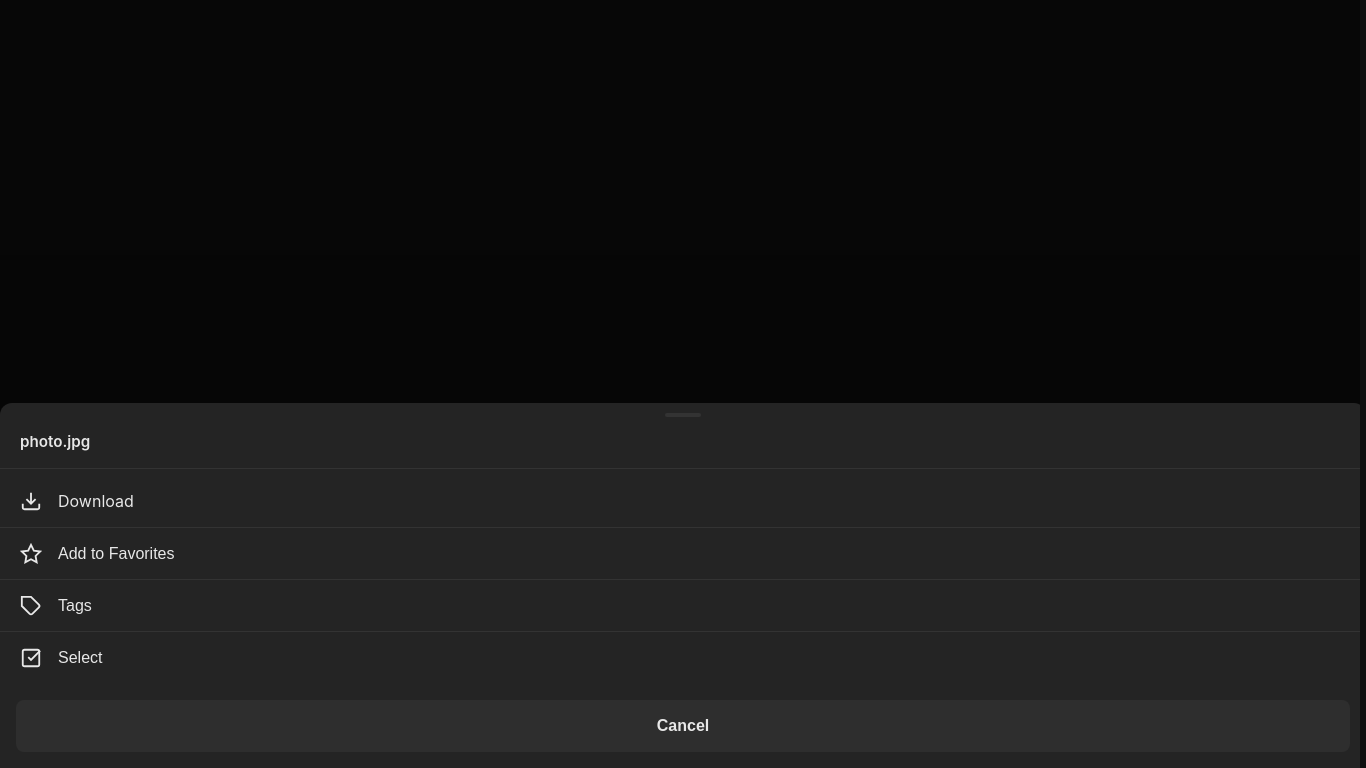
Scenario: GalleryContextMenu › opens the Tags sub-panel when Tags button is clicked
Click the button "Tags". click: (75, 605)
box: [0,580,1365,632]
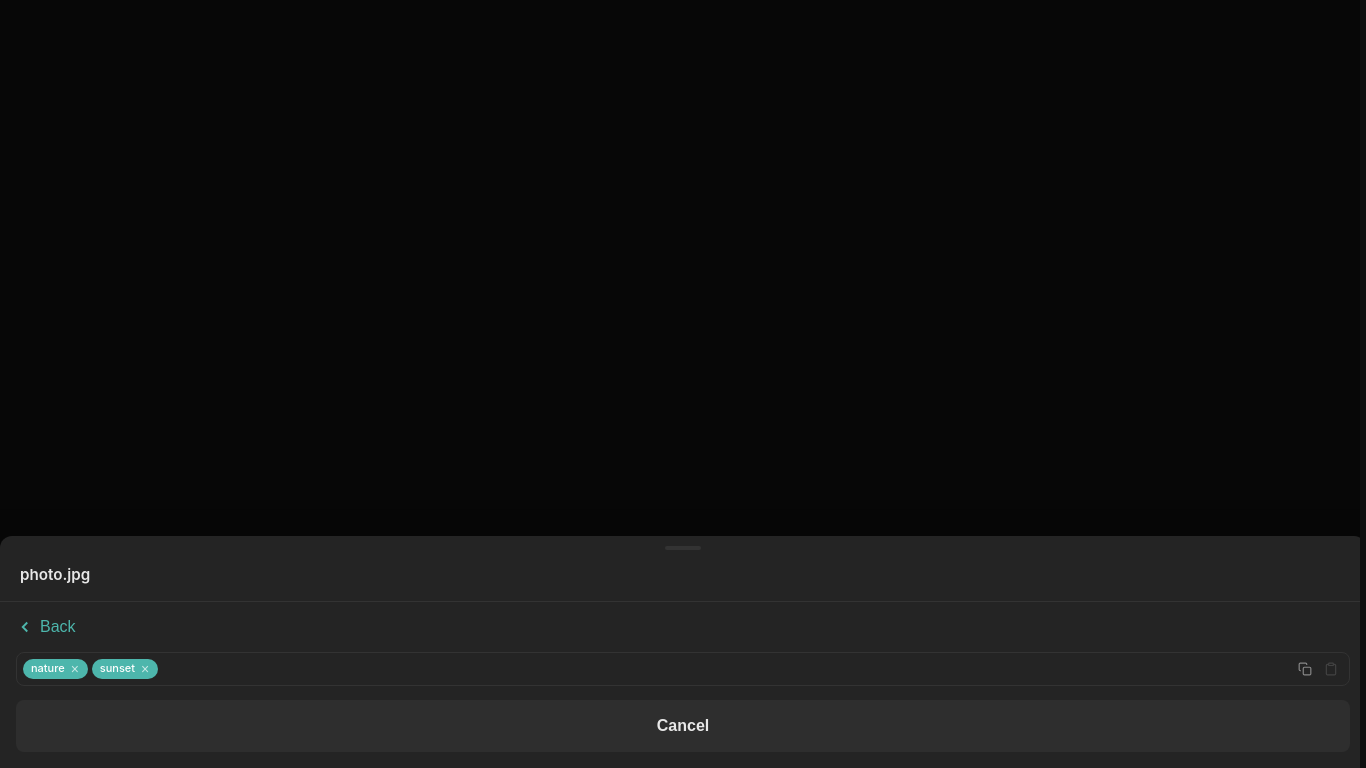
Check: the button "Back" is shown, box [16,610,76,648]
